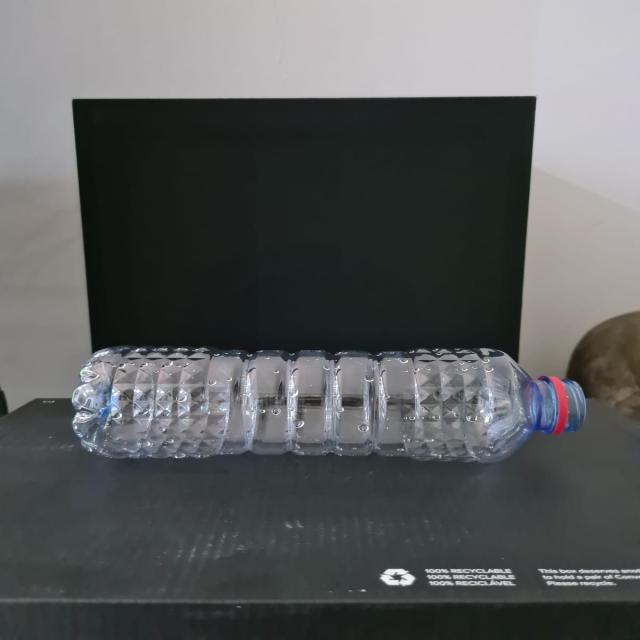bottle: (58, 326, 590, 472)
